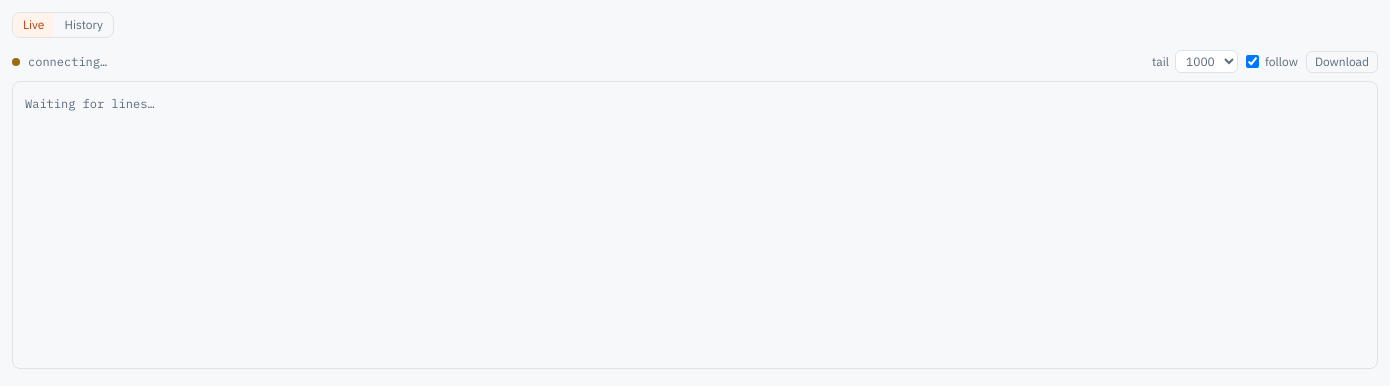
Test case: LogsPanel — сегмент Live | История › клик «История» → queryLogs вызван с query, содержащим {server_id="srv-1"}, строки отрисованы
Click the button "History" at (84,25), box [54, 13, 113, 37]
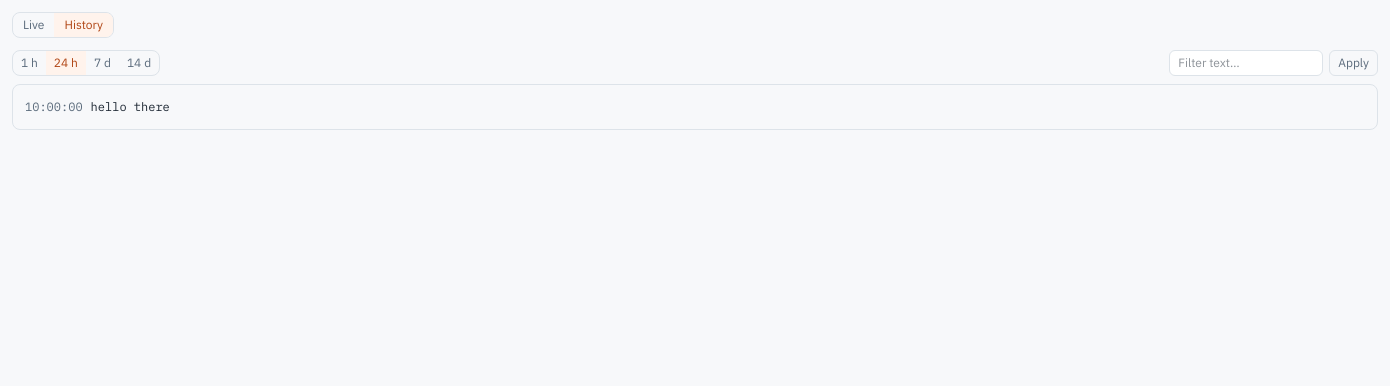
Expected: the text "hello there" is shown, [91, 99, 170, 114]
